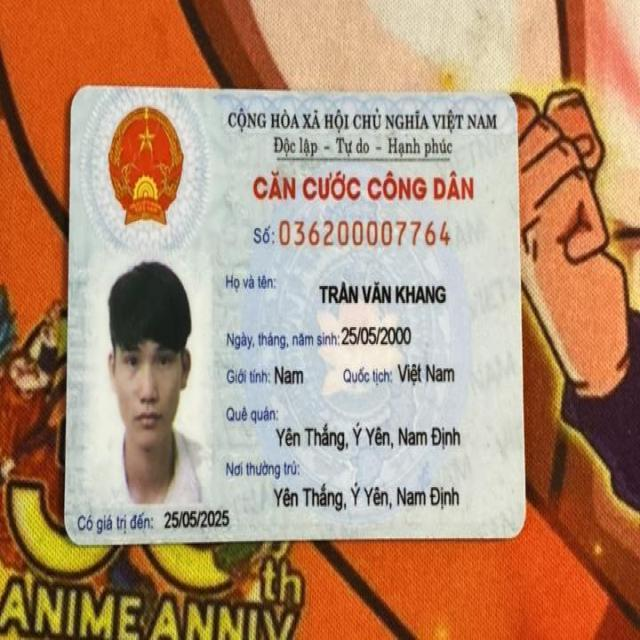bottom_left: (52, 510, 96, 558)
bottom_right: (492, 503, 538, 553)
image_person: (82, 252, 216, 504)
top_left: (59, 76, 99, 119)
top_right: (492, 82, 528, 124)
